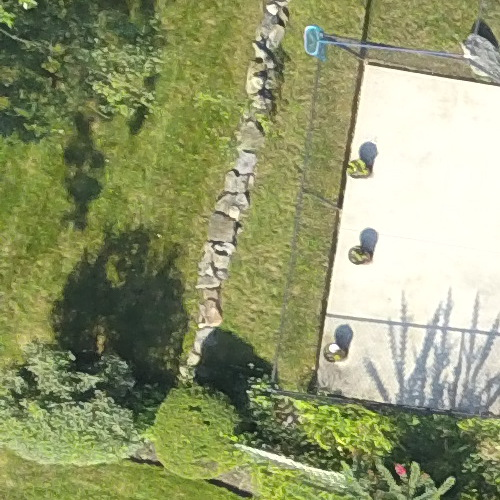flower pot: (349, 241, 376, 272), (347, 155, 375, 183), (325, 338, 350, 367)
